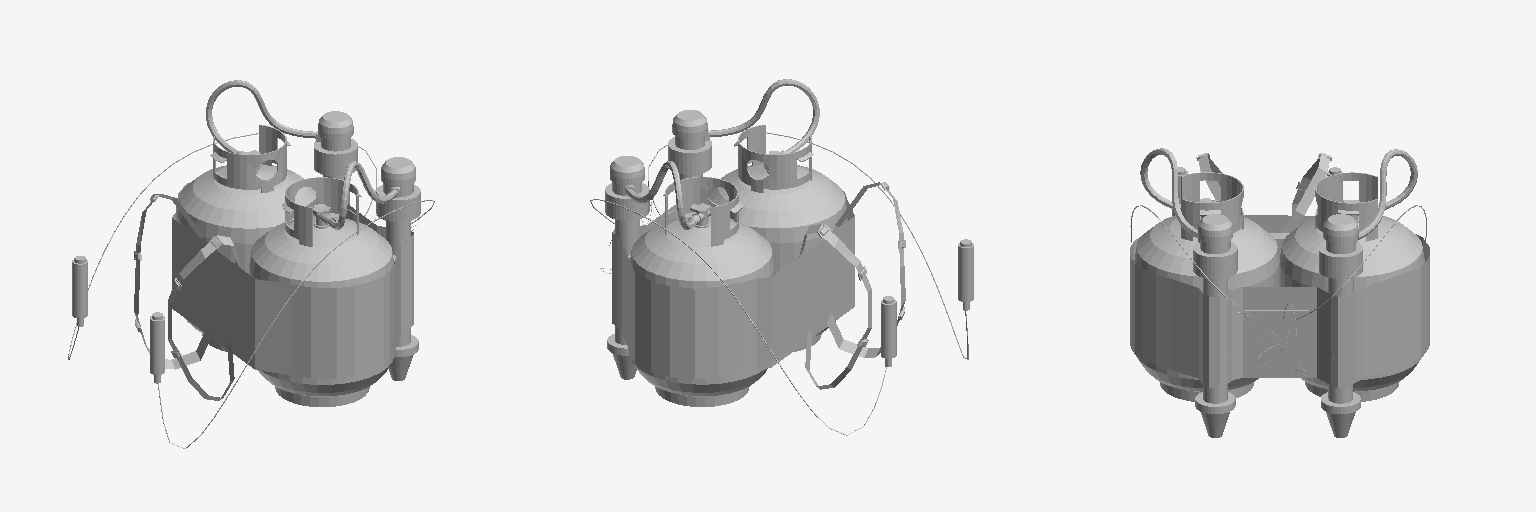
Rendered from jet pack.obj.
3 renders of one model, left to right at view 1: azimuth 30°, elevation 25°; view 2: azimuth 150°, elevation 25°; view 3: azimuth 270°, elevation 25°, orthographic.
Parts seen in each view (by area): view 1: Plane, Circle, Circle.001_Circle.002, Circle.003, Plane.001, Circle.002_Circle.003, Cube.011, Circle.004, Circle.005, Cube.007; view 2: Plane, Circle.001_Circle.002, Circle, Circle.002_Circle.003, Plane.001, Circle.003, Cube.007, Circle.005, Circle.004, Cube.011; view 3: Plane, Circle, Circle.001_Circle.002, Circle.003, Circle.002_Circle.003, Cube.004_Cube, Plane.001, Cube.011, Cube.007.
Part boxes in pixels (left/top/right/bottom): Plane: left=172, top=182, right=413, bottom=378; Circle: left=249, top=177, right=394, bottom=406; Circle.001_Circle.002: left=177, top=125, right=315, bottom=351; Circle.003: left=376, top=157, right=420, bottom=380; Plane.001: left=134, top=194, right=239, bottom=400; Circle.002_Circle.003: left=314, top=111, right=357, bottom=214; Cube.011: left=206, top=80, right=316, bottom=153; Circle.004: left=72, top=256, right=87, bottom=326; Circle.005: left=150, top=312, right=164, bottom=383; Cube.007: left=328, top=161, right=397, bottom=229; Plane: left=612, top=191, right=854, bottom=379; Circle.001_Circle.002: left=629, top=177, right=774, bottom=406; Circle: left=708, top=125, right=847, bottom=351; Circle.002_Circle.003: left=605, top=156, right=649, bottom=379; Plane.001: left=799, top=182, right=905, bottom=389; Circle.003: left=668, top=110, right=711, bottom=179; Cube.007: left=709, top=79, right=819, bottom=152; Circle.005: left=958, top=239, right=973, bottom=310; Circle.004: left=881, top=296, right=896, bottom=366; Cube.011: left=626, top=161, right=695, bottom=229; Plane: left=1130, top=215, right=1429, bottom=387; Circle: left=1134, top=172, right=1279, bottom=401; Circle.001_Circle.002: left=1280, top=172, right=1424, bottom=401; Circle.003: left=1193, top=214, right=1237, bottom=437; Circle.002_Circle.003: left=1319, top=214, right=1362, bottom=437; Cube.004_Cube: left=1245, top=310, right=1308, bottom=368; Plane.001: left=1196, top=153, right=1332, bottom=258; Cube.011: left=1358, top=149, right=1417, bottom=239; Cube.007: left=1140, top=148, right=1197, bottom=237.
Bounding box in the file's own units: 3.29 × 2.55 × 2.76.